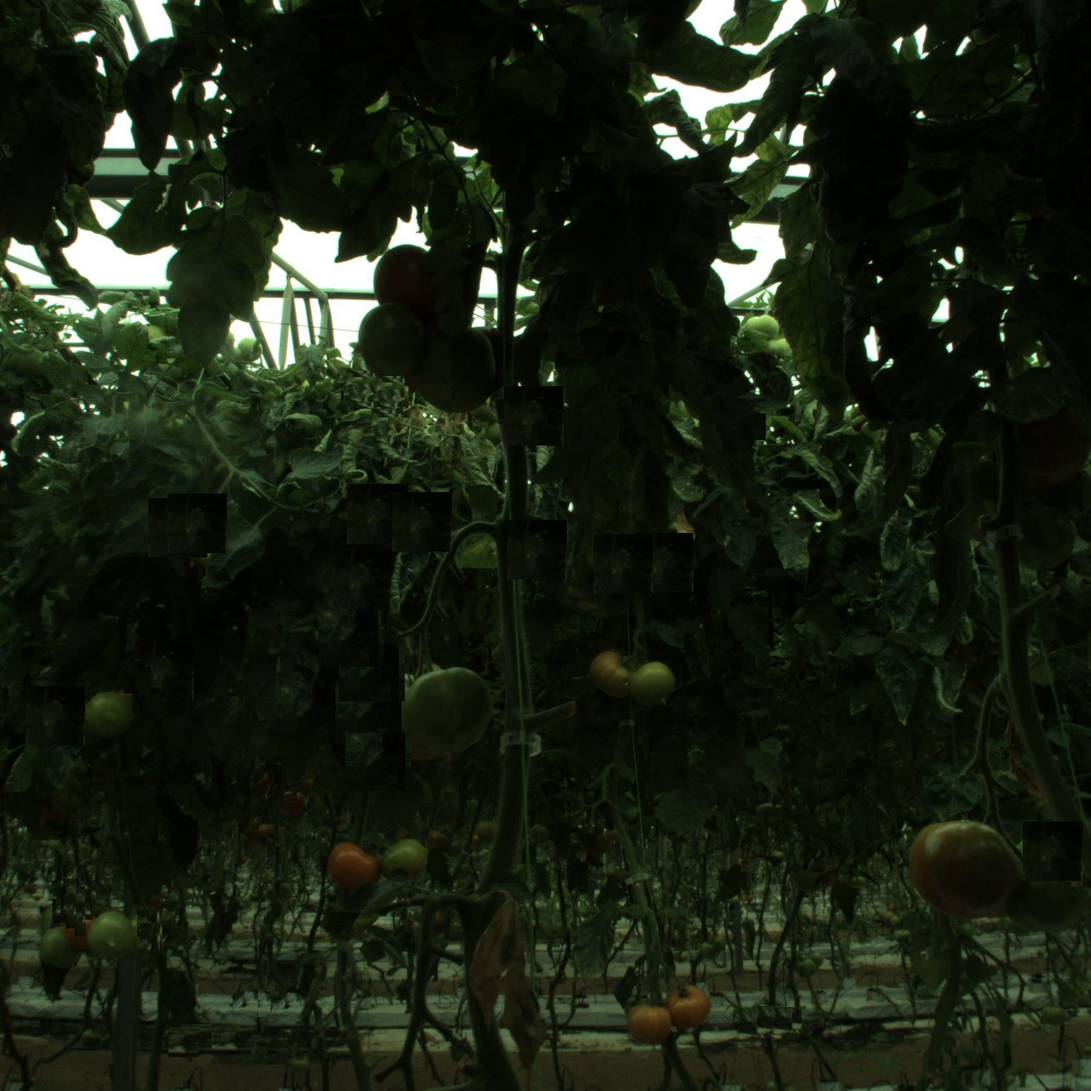fully-ripe: (628, 999, 673, 1044), (331, 844, 375, 889), (667, 988, 709, 1030)
semi-ripe: (907, 817, 1010, 919), (376, 247, 445, 315), (586, 645, 640, 700)
unripe: (411, 325, 503, 417), (403, 667, 490, 754), (358, 305, 427, 374), (87, 911, 137, 961), (87, 687, 132, 732), (382, 837, 427, 882), (633, 662, 678, 706), (39, 927, 80, 969)
